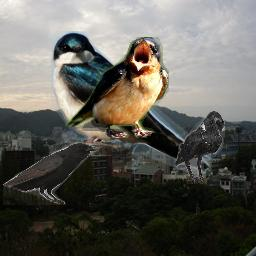Crow: (3, 142, 99, 205), (175, 111, 225, 184)
Swallow: (51, 31, 211, 174), (65, 37, 169, 138)
